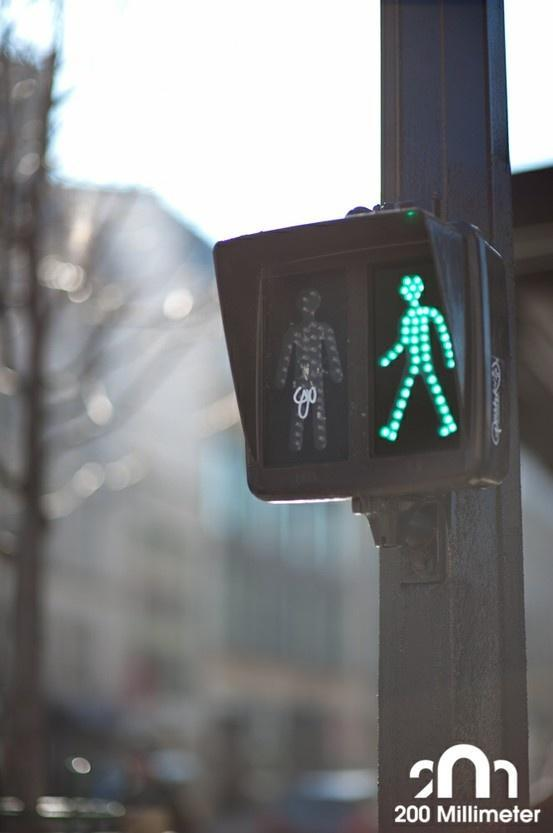green: (140, 198, 544, 530)
